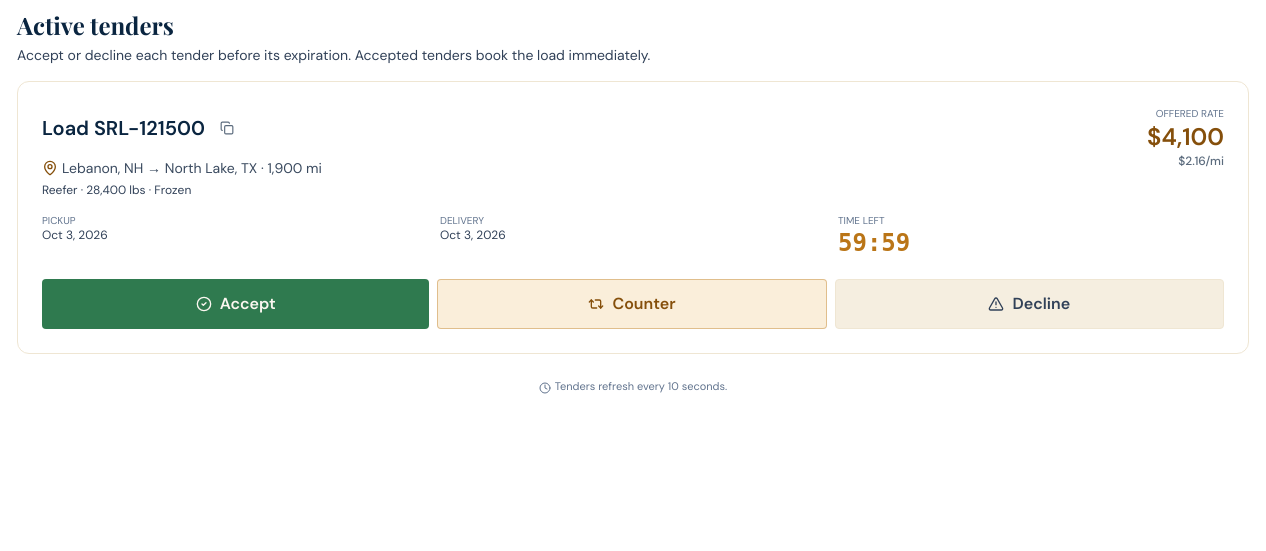
Test: accepting a tender › shows a confirmation naming the load, the email, the signature, and a link to the load
What coordinates should you click on to do the following:
click the button "Accept"
I would click on:
 (236, 304)
Its box is [42,279,429,329].
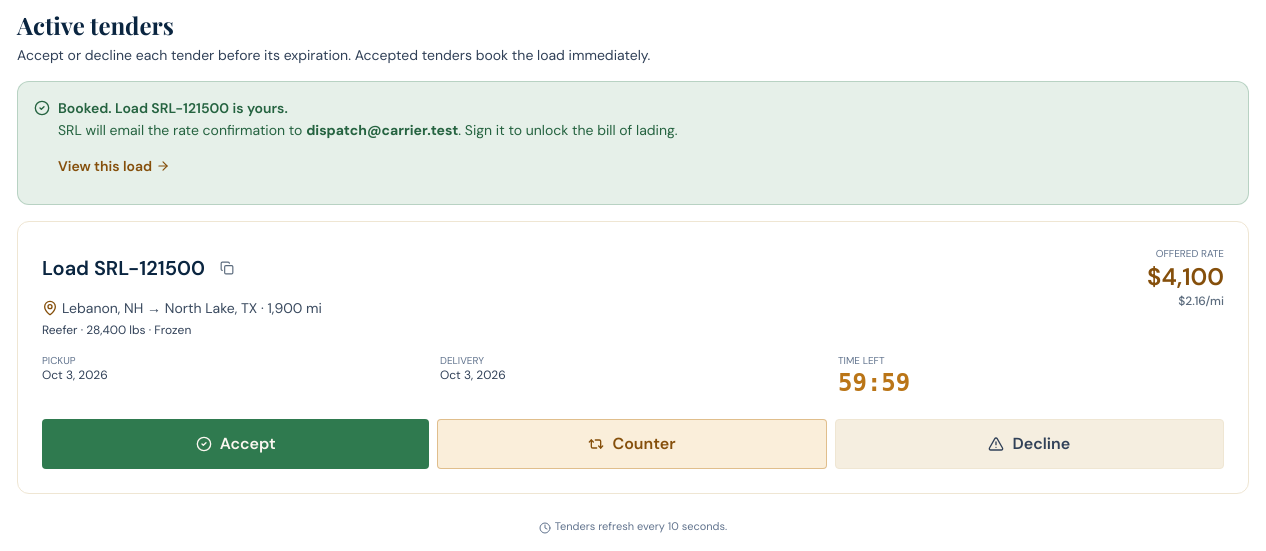
Expected: the message with test id "accept-confirmation" shows "Booked. Load SRL-121500 is yours", [17,81,1249,205]
Expected: the message with test id "accept-confirmation" shows "email the rate confirmation to dispatch@carrier.test", [17,81,1249,205]
Expected: the message with test id "accept-confirmation" shows "Sign it to unlock the bill of lading", [458,121,678,139]
